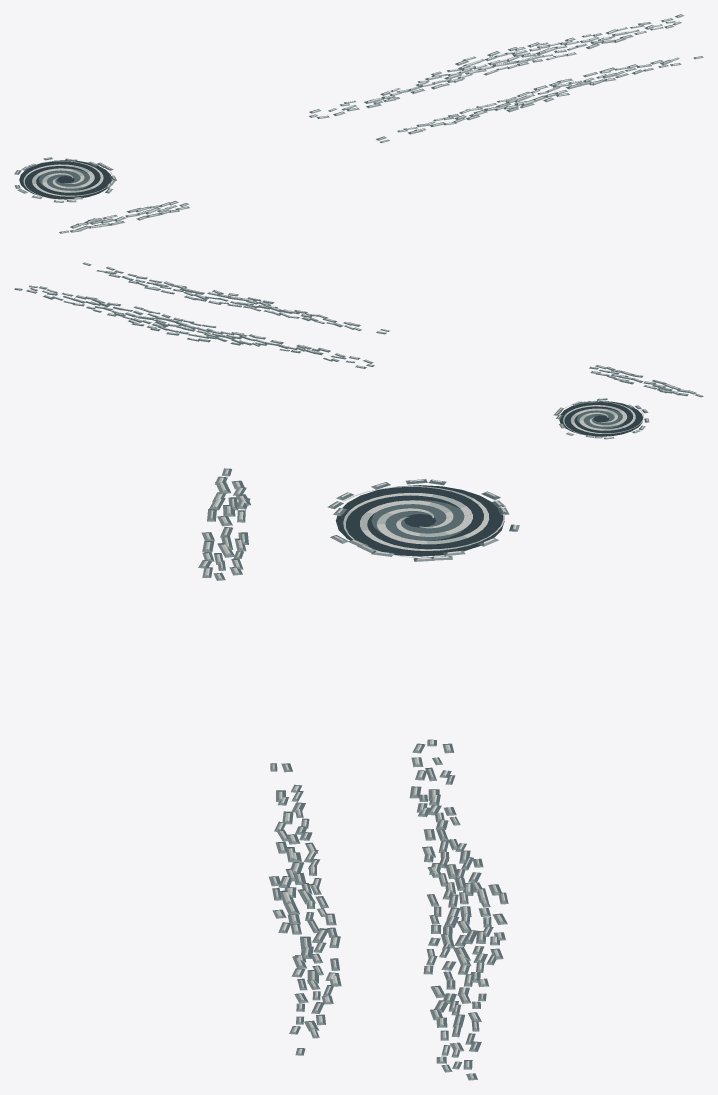
Rendered from chunk_-1_3.glb.
3 views of the same model, one above another, from view 1: azimuth 30°, elevation 25°; view 2: azimuth 150°, elevation 25°; view 3: azimuth 270°, elevation 25° (orthographic). The views are drawn at different scales.
Parts seen in each view (by area): view 1: chunk_-1_3; view 2: chunk_-1_3; view 3: chunk_-1_3.
Part boxes in pixels (box(x1,y1,x2,y2)): chunk_-1_3: box(14, 14, 703, 233); chunk_-1_3: box(14, 262, 703, 439); chunk_-1_3: box(198, 468, 519, 1080).
Bounding box in the file's own units: 130 × 0.2249 × 28.95.
